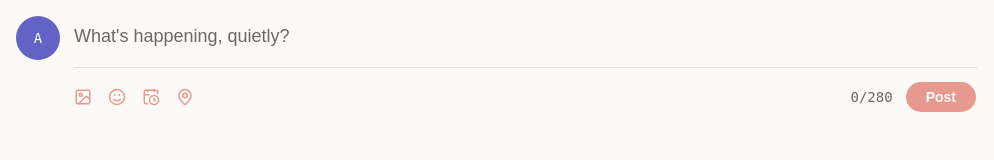
Scenario: Composer › counts typed text and enables Post
This screenshot has width=994, height=160.
Expected: the picture named "@ada" is shown, x1=16 y1=16 x2=60 y2=60
Type "Hello flock" into the text box named "Compose a new post" at (526, 38), box x1=74 y1=16 x2=977 y2=59
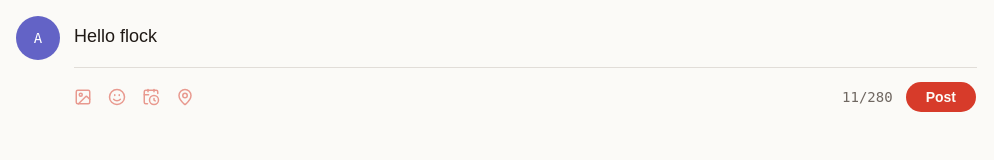
Now the text "11/280" is shown, box x1=842 y1=87 x2=893 y2=107
Now the button "Post" is enabled, box x1=905 y1=81 x2=977 y2=113
